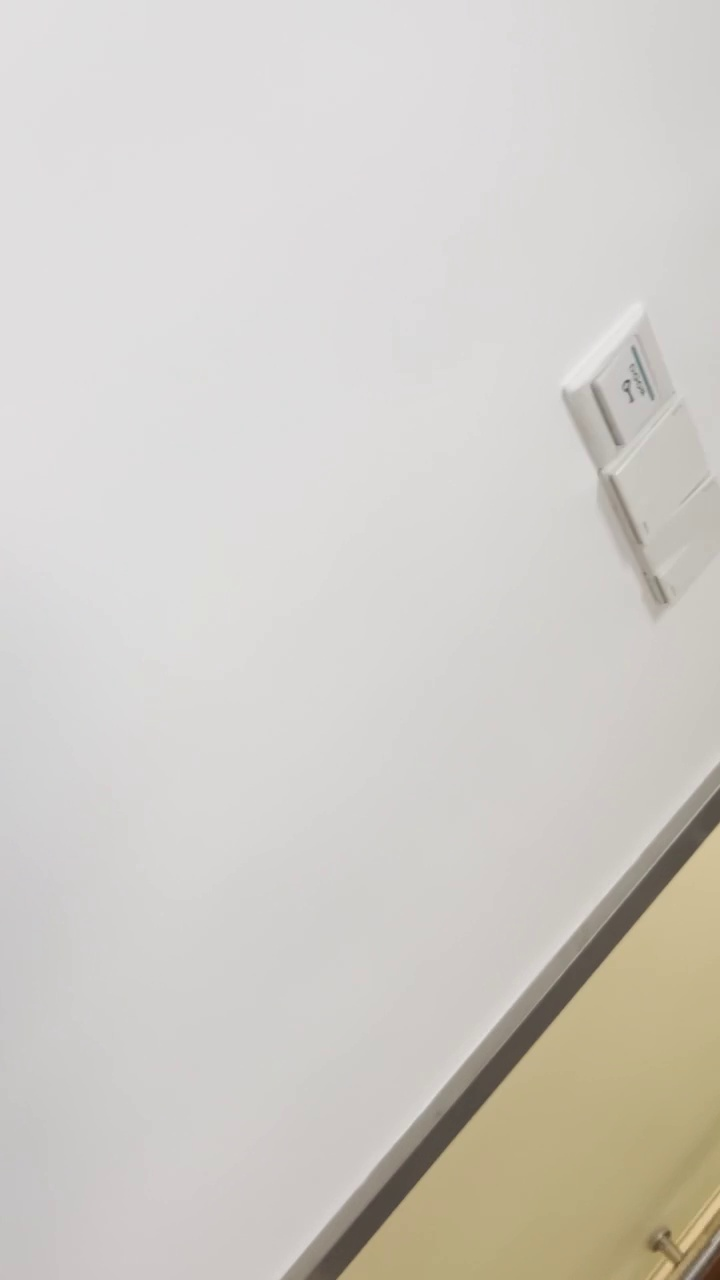button: (607, 402, 711, 545), (638, 471, 720, 608)
